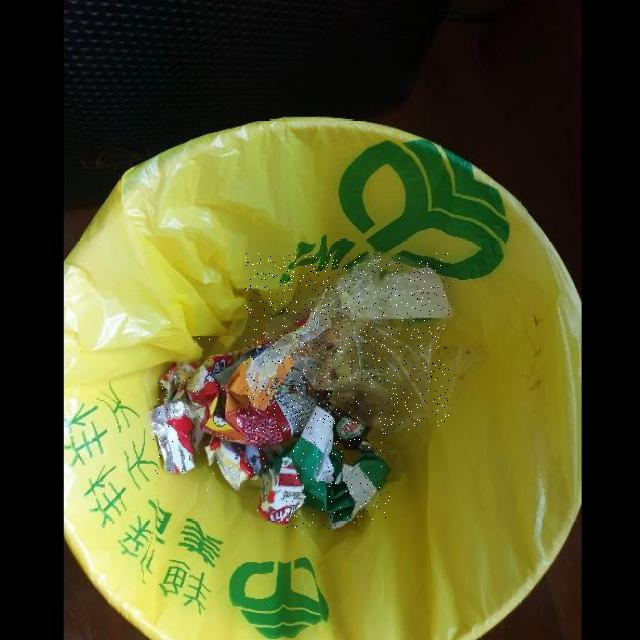paper: (287, 407, 390, 529)
plastic: (246, 254, 449, 432)
wrapper: (182, 337, 317, 448), (204, 437, 270, 493), (150, 399, 198, 474), (257, 457, 306, 525), (159, 362, 200, 405)
